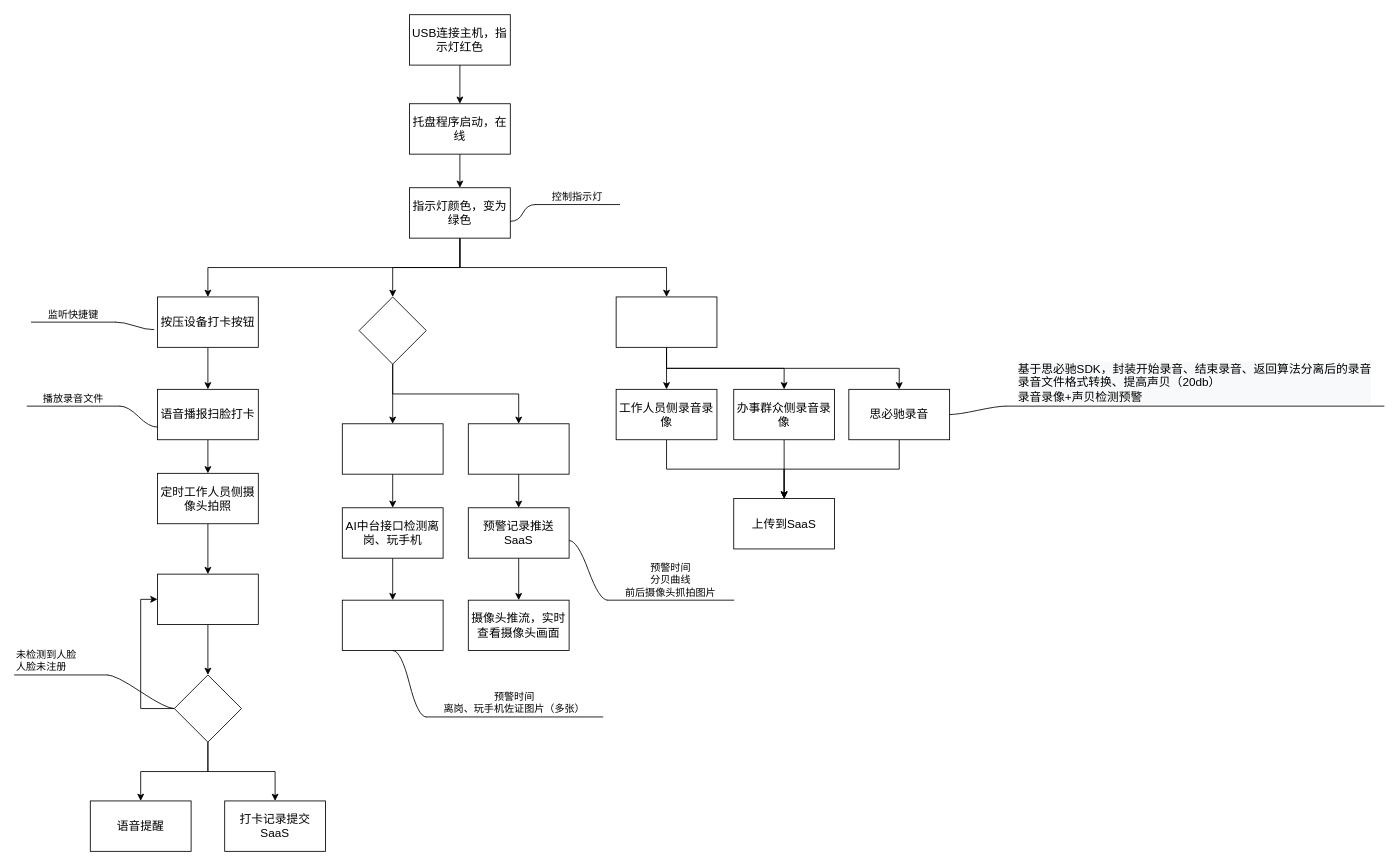
Image size: 1399x866. Some labels were removed from this diagram. Each missing label, with the centre of its shape:
AI中台1：N人脸验证: pixel 207 599
AI中台按规则检测，并将预警记录推送SaaS: pixel 392 625
上班时间: pixel 392 330
叫号开始、结束: pixel 666 321
声贝检测: pixel 518 448
工作人员侧摄像头，定时拍照: pixel 392 448
根据接口返回: pixel 207 708
